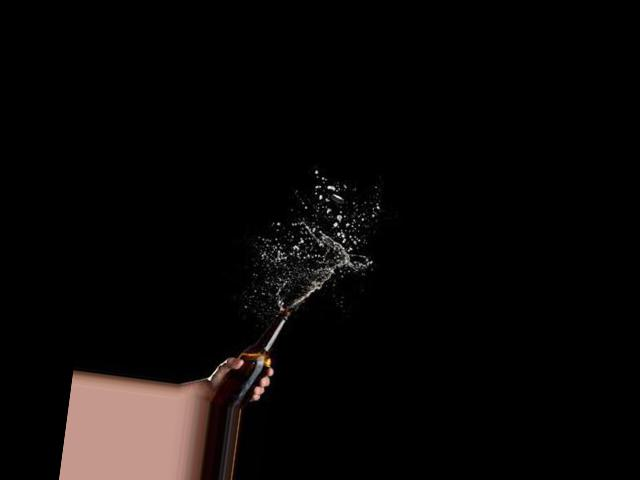beer: (208, 302, 292, 415)
